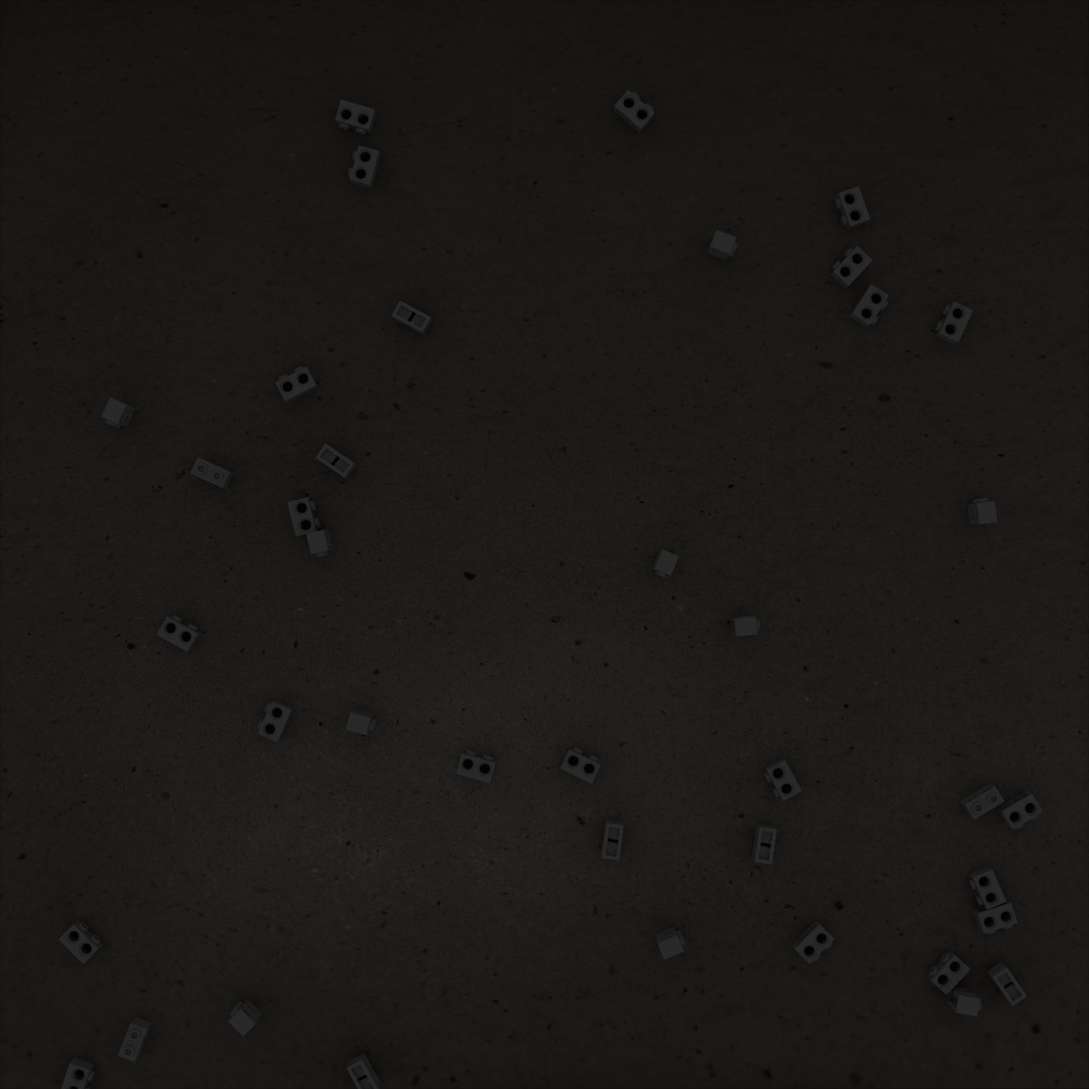lego: (58, 920, 103, 964), (927, 950, 971, 995), (792, 920, 835, 964), (830, 246, 873, 289), (986, 961, 1027, 1006), (614, 90, 655, 134), (997, 791, 1043, 830), (849, 284, 889, 328), (968, 866, 1007, 910), (156, 614, 201, 652), (959, 783, 1005, 820), (935, 301, 973, 345), (764, 758, 802, 801), (275, 366, 319, 403), (973, 899, 1018, 934), (118, 1016, 152, 1062), (257, 700, 294, 742), (835, 186, 870, 230), (560, 747, 601, 784), (335, 99, 377, 135), (315, 443, 357, 479), (391, 300, 432, 336), (348, 145, 381, 189), (190, 457, 234, 489), (228, 998, 262, 1037), (287, 497, 320, 537), (456, 750, 496, 783), (346, 1053, 381, 1089), (58, 1057, 95, 1089), (947, 985, 982, 1017), (101, 397, 136, 428), (752, 823, 777, 865), (655, 926, 685, 960), (706, 230, 738, 261), (601, 819, 624, 861), (967, 498, 997, 525), (346, 709, 377, 735), (652, 549, 679, 578), (306, 530, 333, 557), (730, 615, 760, 637)
